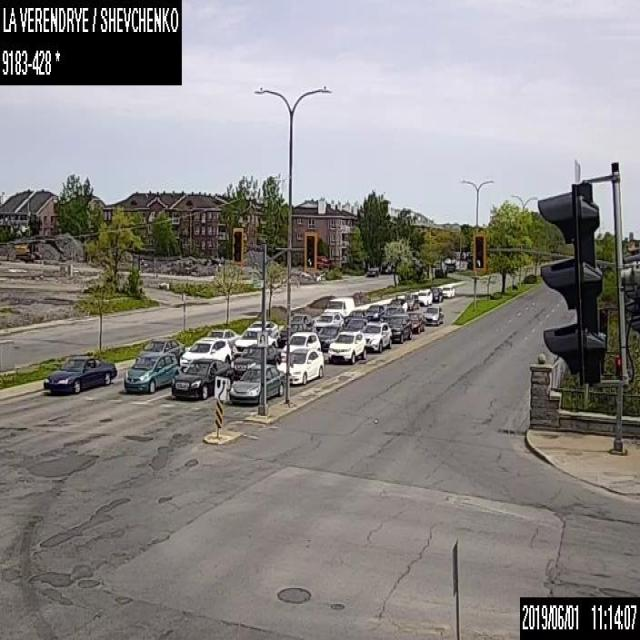vehicle: (41, 354, 118, 394), (171, 357, 233, 398), (124, 350, 179, 393), (228, 362, 284, 404), (230, 343, 281, 376), (179, 336, 231, 368), (280, 347, 324, 384), (280, 329, 320, 362), (134, 337, 184, 363), (327, 329, 365, 363), (232, 326, 277, 354), (361, 321, 391, 352), (385, 312, 411, 343), (312, 311, 344, 334), (280, 321, 312, 344), (323, 296, 354, 318), (206, 327, 241, 345), (316, 326, 340, 350), (246, 319, 278, 334), (422, 304, 443, 325), (407, 311, 426, 333), (344, 308, 369, 324), (343, 317, 368, 331), (365, 303, 385, 320), (385, 297, 407, 312), (289, 312, 314, 324), (416, 288, 432, 306), (404, 293, 419, 309), (441, 284, 455, 297), (430, 286, 442, 301), (366, 266, 378, 276)
